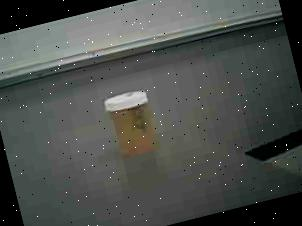Bottle B: (98, 81, 172, 167)
